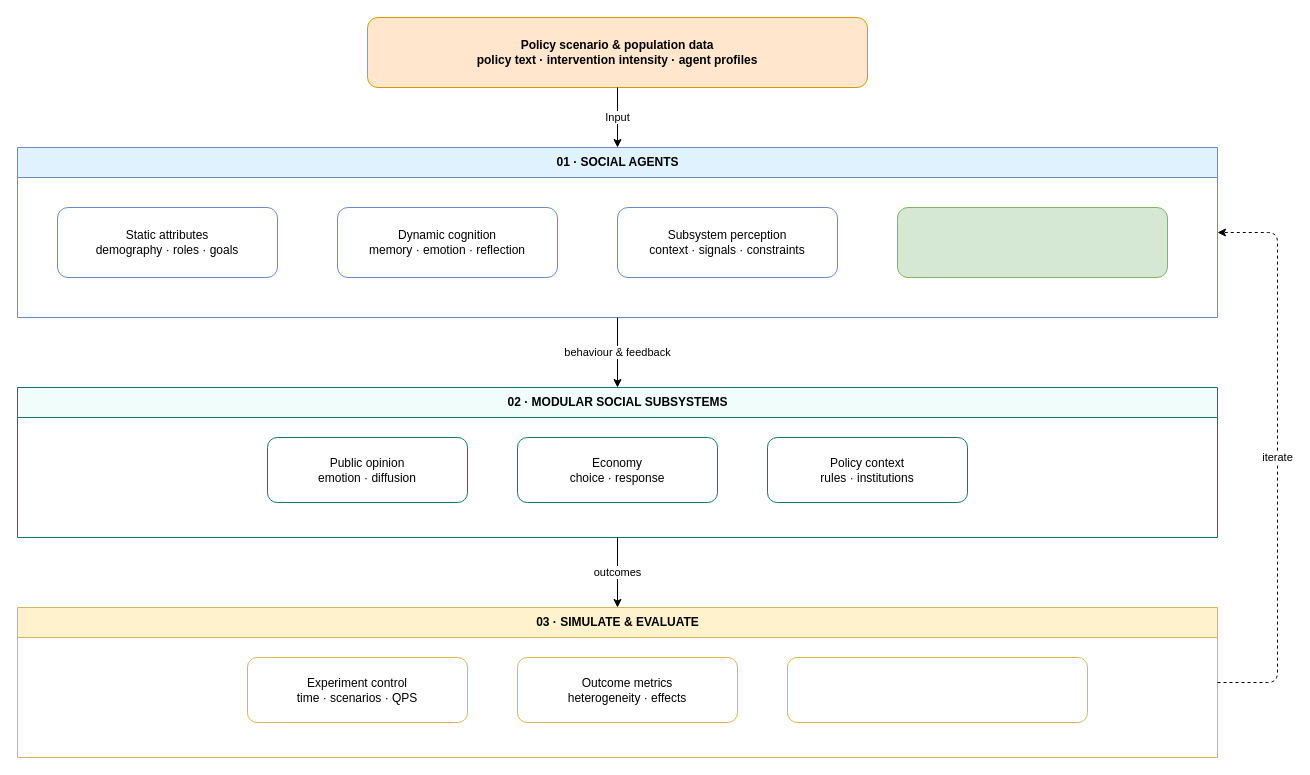
Image size: 1310x775. Some labels were removed from this diagram. Each missing label, with the centre of its shape:
"Evidence & policy iteration comparison · interpretation · optimisation" belongs at (937,689).
"LLM decision & interaction situated choices · communication" belongs at (1032,242).
